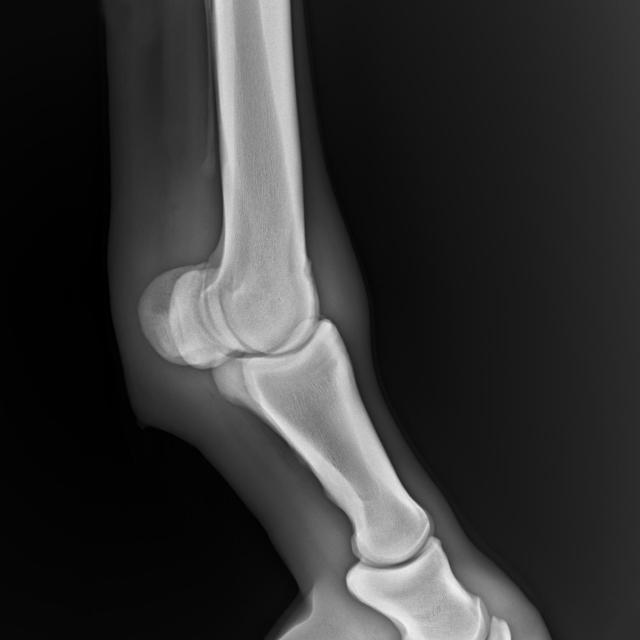joint-ht8A: (132, 193, 397, 448)
